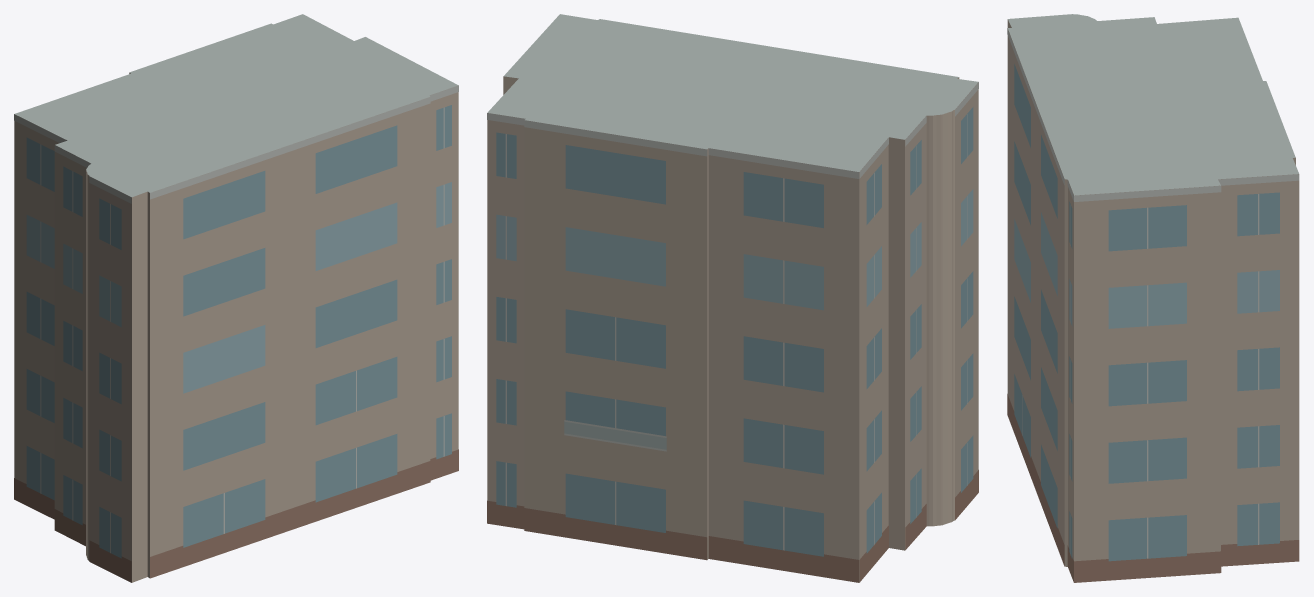
Rendered from survey-upis-32654705.glb.
3 views of the same model, side by side, from view 1: azimuth 30°, elevation 25°; view 2: azimuth 150°, elevation 25°; view 3: azimuth 270°, elevation 25° (orthographic). The views are drawn at different scales.
Visible parts, largest first — view 1: survey-upis-32654705.tmp; view 2: survey-upis-32654705.tmp; view 3: survey-upis-32654705.tmp.
Part boxes in pixels (bbox=[...]): survey-upis-32654705.tmp: bbox=[14, 14, 458, 582]; survey-upis-32654705.tmp: bbox=[487, 14, 978, 582]; survey-upis-32654705.tmp: bbox=[1007, 14, 1299, 582].
Bounding box in the file's own units: 14.33 × 14.25 × 9.74.
